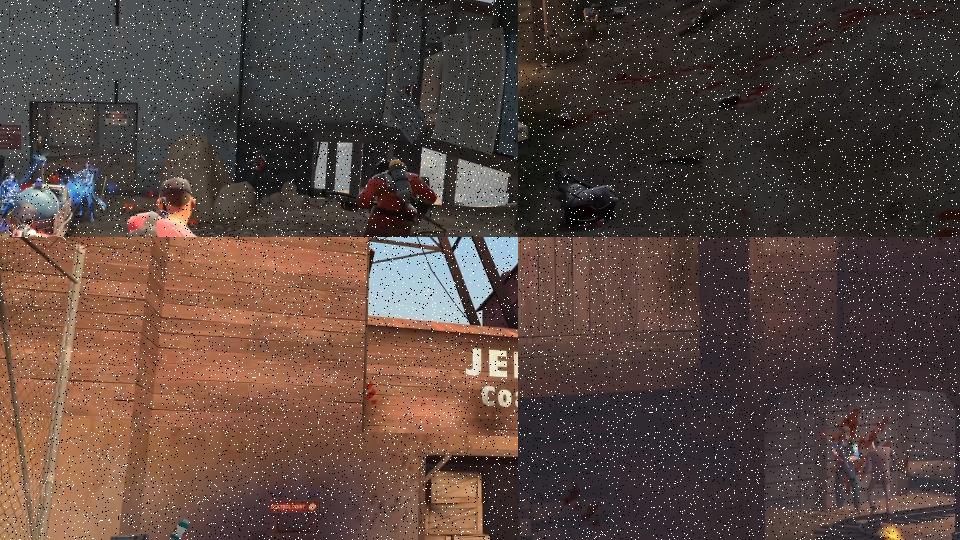Enemy: (305, 155, 447, 237), (107, 176, 226, 237), (829, 424, 863, 518), (862, 437, 900, 519), (74, 162, 108, 223), (237, 150, 267, 203), (0, 172, 19, 228), (583, 4, 599, 49), (50, 165, 75, 185)
